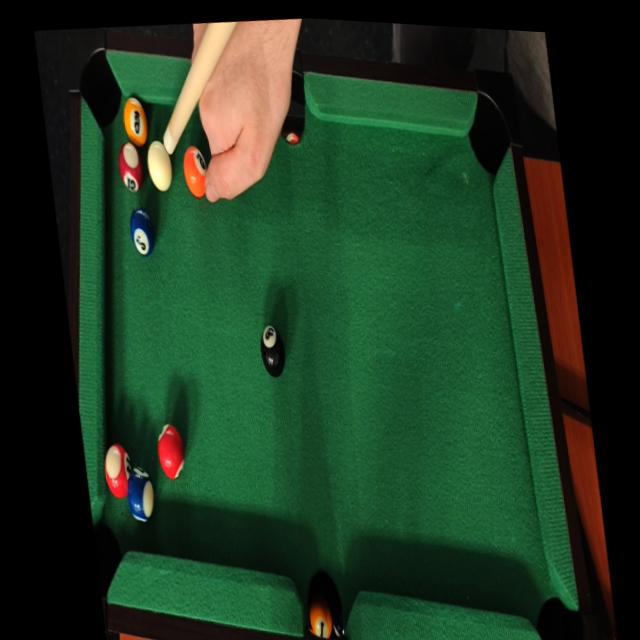cue ball: (143, 141, 176, 199)
other: (98, 437, 141, 502), (151, 418, 189, 487), (121, 463, 158, 531), (117, 87, 152, 153), (176, 145, 213, 206), (255, 317, 287, 382), (125, 203, 159, 260), (115, 139, 148, 197)
